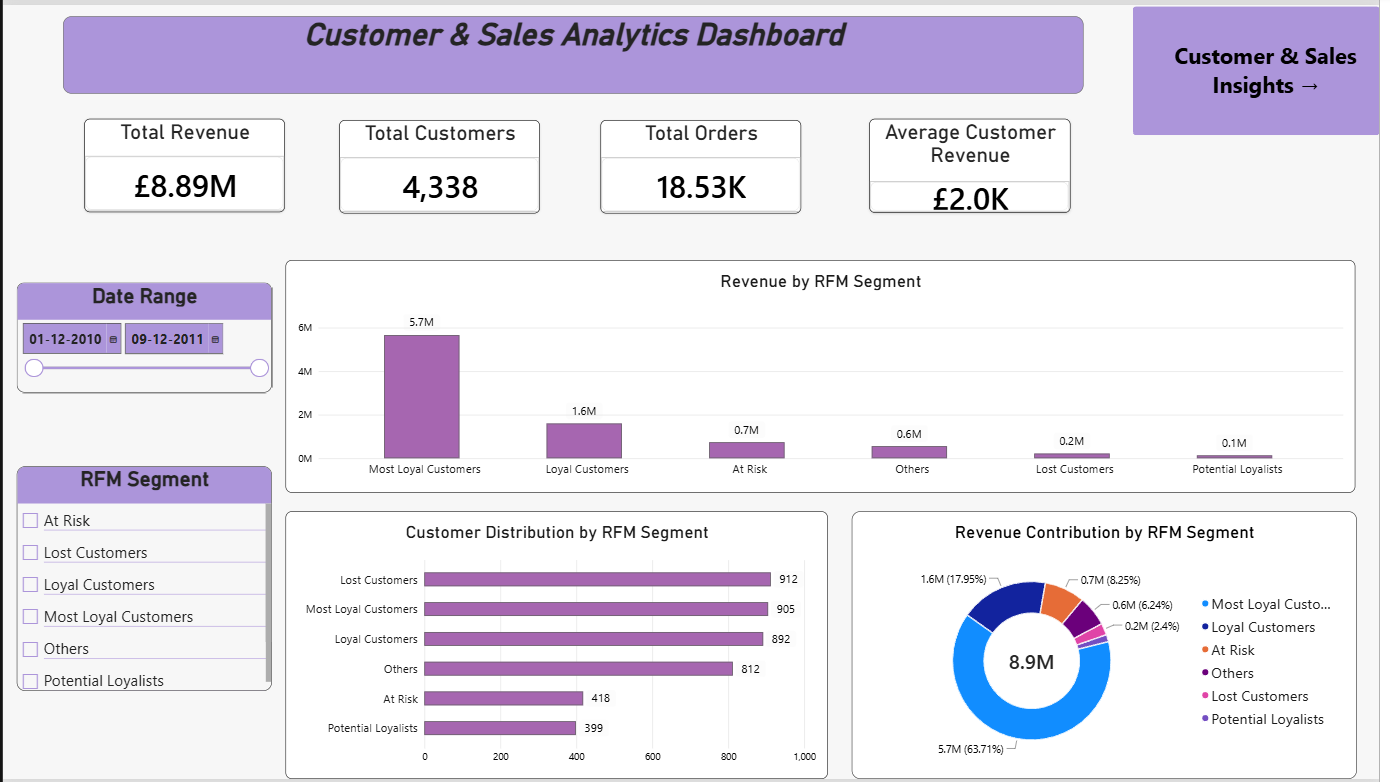

The page's visual inventory and layout, read from the dashboard file:
{"tool":"powerbi","page":{"name":"Executive Overview","canvas":[1920,1080],"ordinal":0},"visuals":[{"type":"cardVisual","title":"Total Customers","fields":{"Data":["Customer_RFM_Final.Total Customers Display"]},"box":[469.2,160.5,280,130],"z":0},{"type":"cardVisual","title":"Total Revenue","fields":{"Data":["OnlineRetail.Total Revenue"]},"box":[113.4,158.7,280,130],"z":1},{"type":"cardVisual","title":"Total Orders","fields":{"Data":["OnlineRetail.Total Orders"]},"box":[833.7,160.5,280,130],"z":2},{"type":"cardVisual","title":"Average Customer Revenue","fields":{"Data":["Customer_RFM_Final.Average Customer Revenue"]},"box":[1208.7,158.7,280.8,130.8],"z":3},{"type":"clusteredBarChart","title":"Customer Distribution by RFM Segment","fields":{"Category":["Customer_RFM_Final.Customer_Segment"],"Y":["CountNonNull(Customer_RFM_Final.CustomerID)"]},"box":[394.2,706.4,757,373.3],"z":4},{"type":"clusteredColumnChart","title":"Revenue by RFM Segment","fields":{"Category":["Customer_RFM_Final.Customer_Segment"],"Y":["Customer_RFM_Final.Segment Revenue"]},"box":[394.2,355.8,1493,324.4],"z":5},{"type":"donutChart","title":"Revenue Contribution by RFM Segment","fields":{"Category":["Customer_RFM_Final.Customer_Segment"],"Y":["Customer_RFM_Final.Segment Revenue"]},"box":[1184.3,706.4,704.7,373.3],"z":6},{"type":"actionButton","box":[1576,2,344,180],"z":7},{"type":"textbox","title":"Customer & Sales Analytics Dashboard","box":[84,16,1424,108],"z":8},{"type":"slicer","title":"Date Range","fields":{"Values":["OnlineRetail.InvoiceDate"]},"box":[19.2,387.2,355.8,153.5],"z":9},{"type":"slicer","title":"RFM Segment","fields":{"Values":["Customer_RFM_Final.Customer_Segment"]},"box":[19.2,643.6,355.8,314],"z":10}]}

Visuals, with their boxes in screenshot pixels (x1, y1, x2, y2), scaled from the page's 1920x1080 canvas onto the 1390x782 screenshot:
"Total Customers" cardVisual: bbox(340, 116, 542, 210)
"Total Revenue" cardVisual: bbox(82, 115, 285, 209)
"Total Orders" cardVisual: bbox(604, 116, 806, 210)
"Average Customer Revenue" cardVisual: bbox(875, 115, 1078, 210)
"Customer Distribution by RFM Segment" clusteredBarChart: bbox(285, 511, 833, 781)
"Revenue by RFM Segment" clusteredColumnChart: bbox(285, 258, 1366, 493)
"Revenue Contribution by RFM Segment" donutChart: bbox(857, 511, 1368, 781)
actionButton: bbox(1141, 1, 1389, 132)
"Customer & Sales Analytics Dashboard" textbox: bbox(61, 12, 1092, 90)
"Date Range" slicer: bbox(14, 280, 271, 392)
"RFM Segment" slicer: bbox(14, 466, 271, 693)
